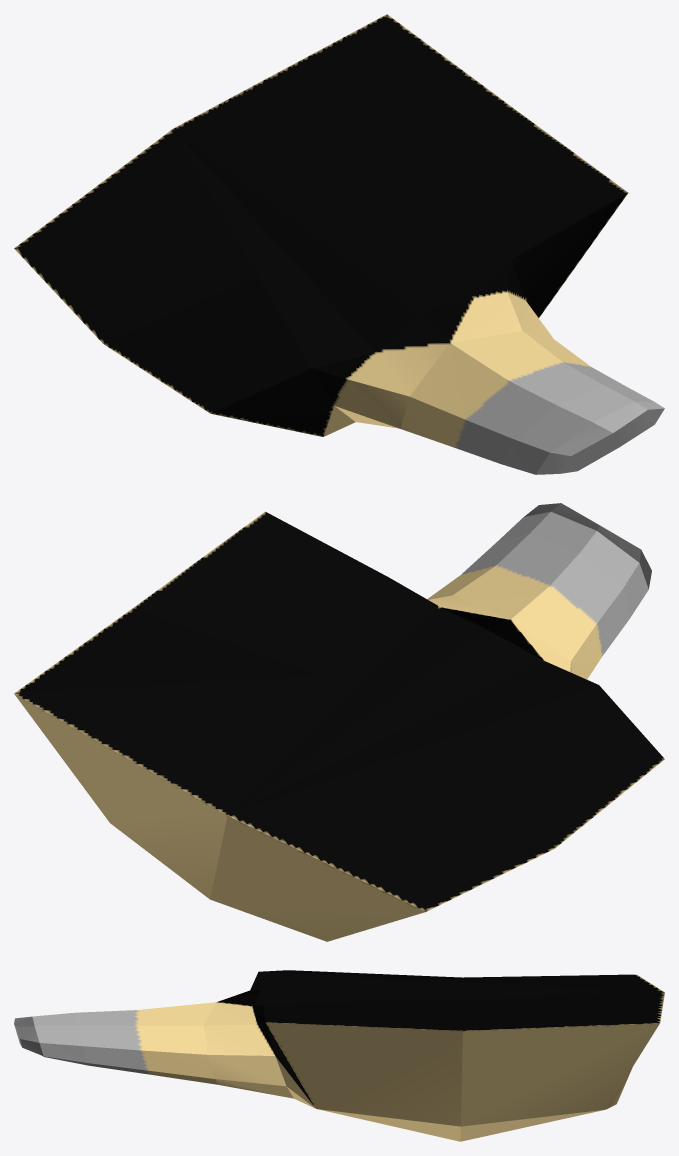
File: weapon 2.FBX
The picture shows the model from 3 angles, top to bottom: view 1: azimuth 30°, elevation 25°; view 2: azimuth 150°, elevation 25°; view 3: azimuth 270°, elevation 25°; orthographic projection. The views are drawn at different scales.
Parts seen in each view (by area): view 1: Box001; view 2: Box001; view 3: Box001.
Part boxes in pixels (x1,y1,x2,y2): Box001: [14, 14, 664, 474]; Box001: [14, 503, 664, 941]; Box001: [14, 970, 664, 1141].
Bounding box in the file's own units: 26.86 × 13.73 × 45.41.
Materials: 1 (1 with a texture image).
